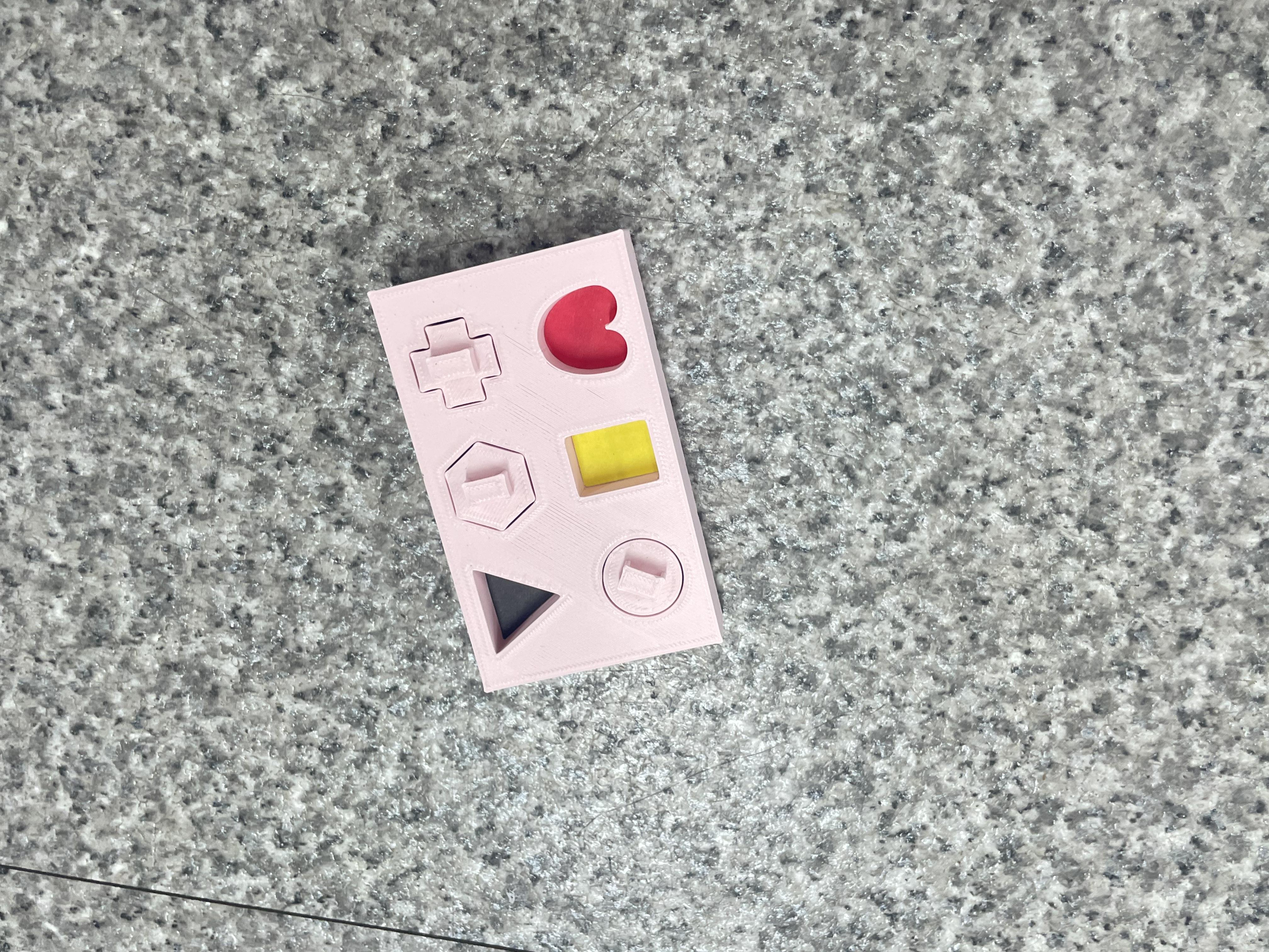unsolved: (359, 219, 735, 701)
